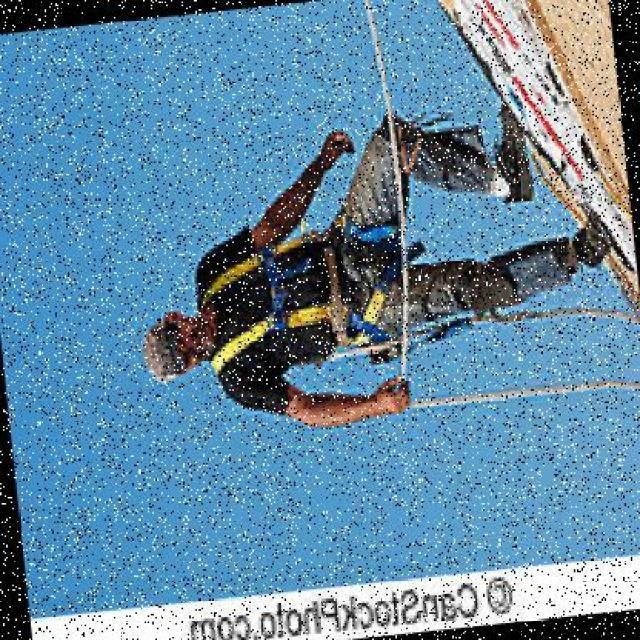Arnes_seguridad: (184, 187, 437, 380)
